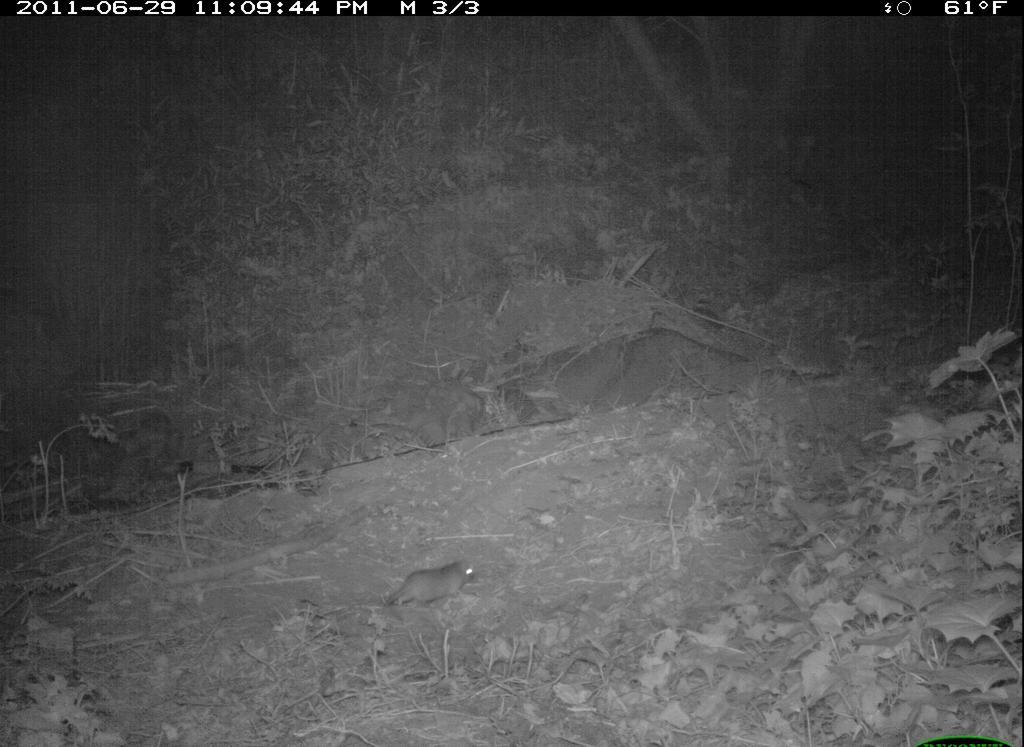rodent: (376, 551, 486, 621)
